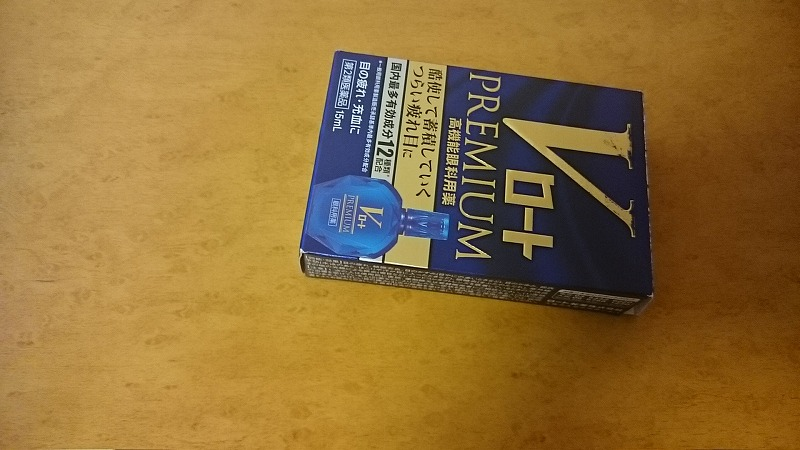D: (286, 48, 668, 325)
